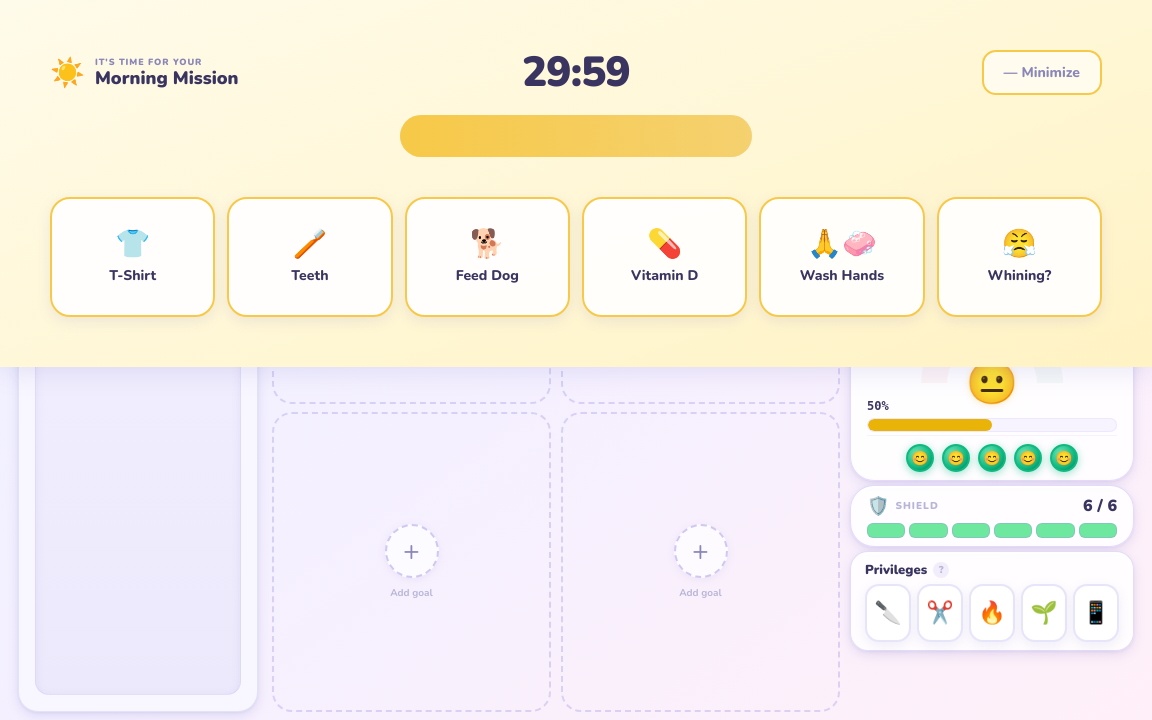
idle Mission Control screens render no looping animation › a mission running, minimized to the pill
Press the mouse on the button with test id "mc-minimize-btn" at (1042, 72), box [982, 50, 1102, 95]
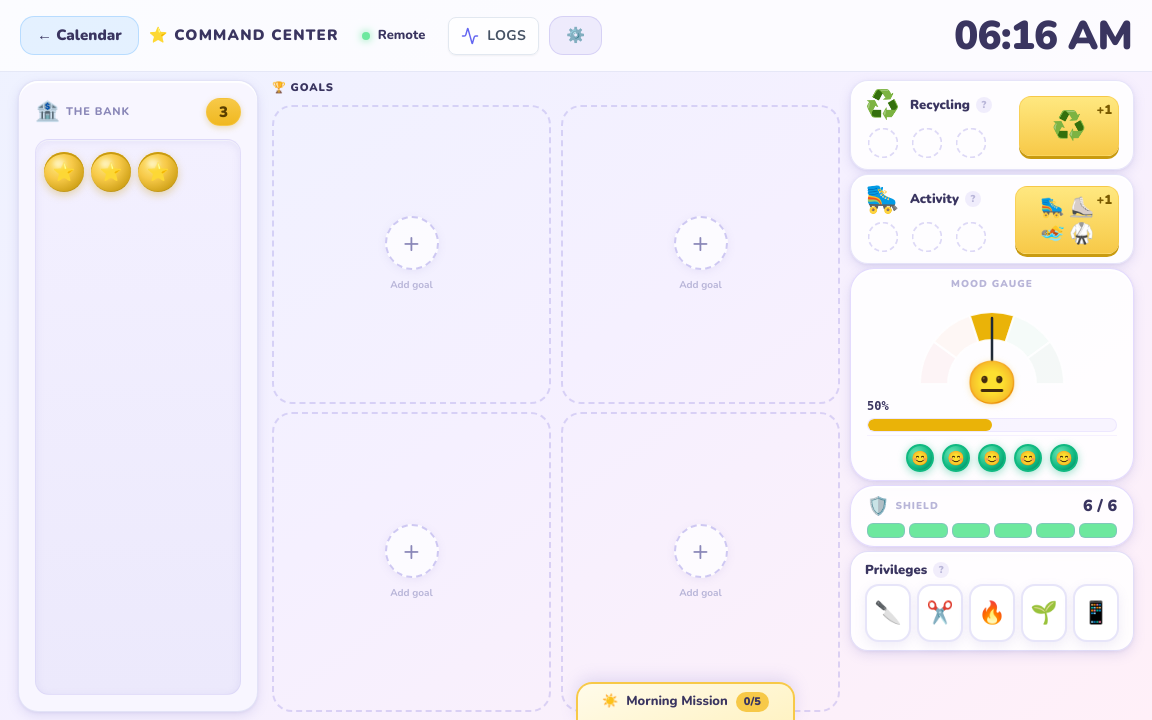
Now the button with test id "mc-mission-pill" is shown, box [576, 682, 795, 719]
